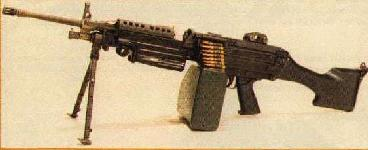rifle: (3, 3, 364, 138)
